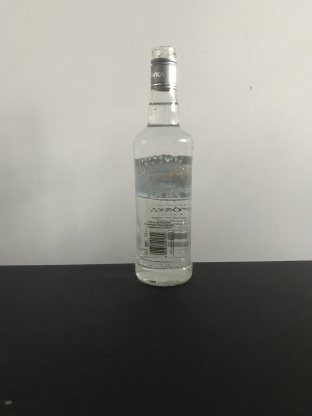nakretka: (148, 44, 178, 91)
